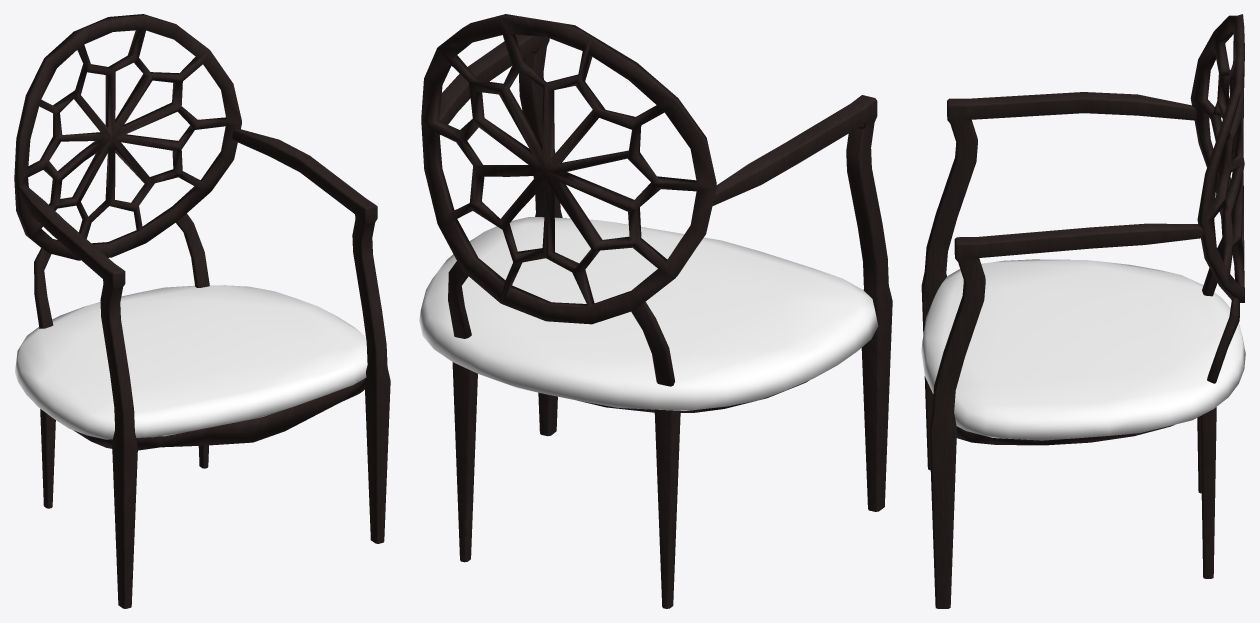
Rendered from chair_modern.glb.
3 renders of one model, left to right at view 1: azimuth 30°, elevation 25°; view 2: azimuth 150°, elevation 25°; view 3: azimuth 270°, elevation 25°, orthographic. The views are drawn at different scales.
Visible parts, largest first — view 1: chair_210; view 2: chair_210; view 3: chair_210.
Boxes of the visible parts, x1,y1,x2,y2 form: chair_210: [14, 14, 390, 608]; chair_210: [419, 14, 892, 608]; chair_210: [921, 14, 1245, 608].
Bounding box in the file's own units: 0.5926 × 0.8373 × 0.4852.
Materials: 2 (1 with a texture image).
